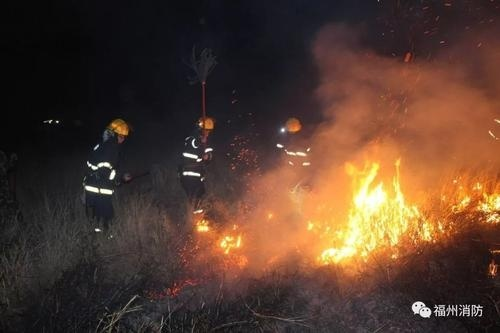fire: (311, 155, 474, 265), (195, 211, 248, 259)
